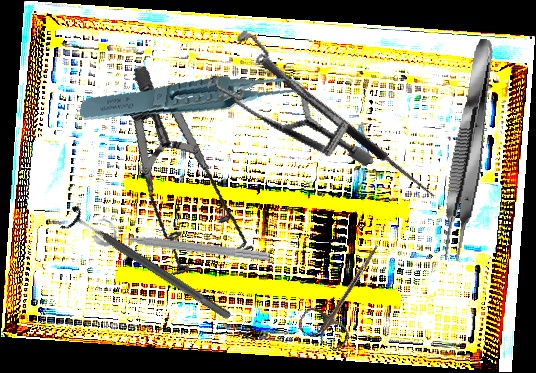Fixation Ring: (59, 202, 238, 330), (91, 216, 273, 267)
Hook Surgical: (259, 49, 445, 201)
Iris Scissors: (295, 231, 397, 354)
Speculum: (94, 64, 286, 290), (193, 4, 374, 209)
Tissue Forceps: (79, 50, 314, 152), (435, 36, 503, 264)
